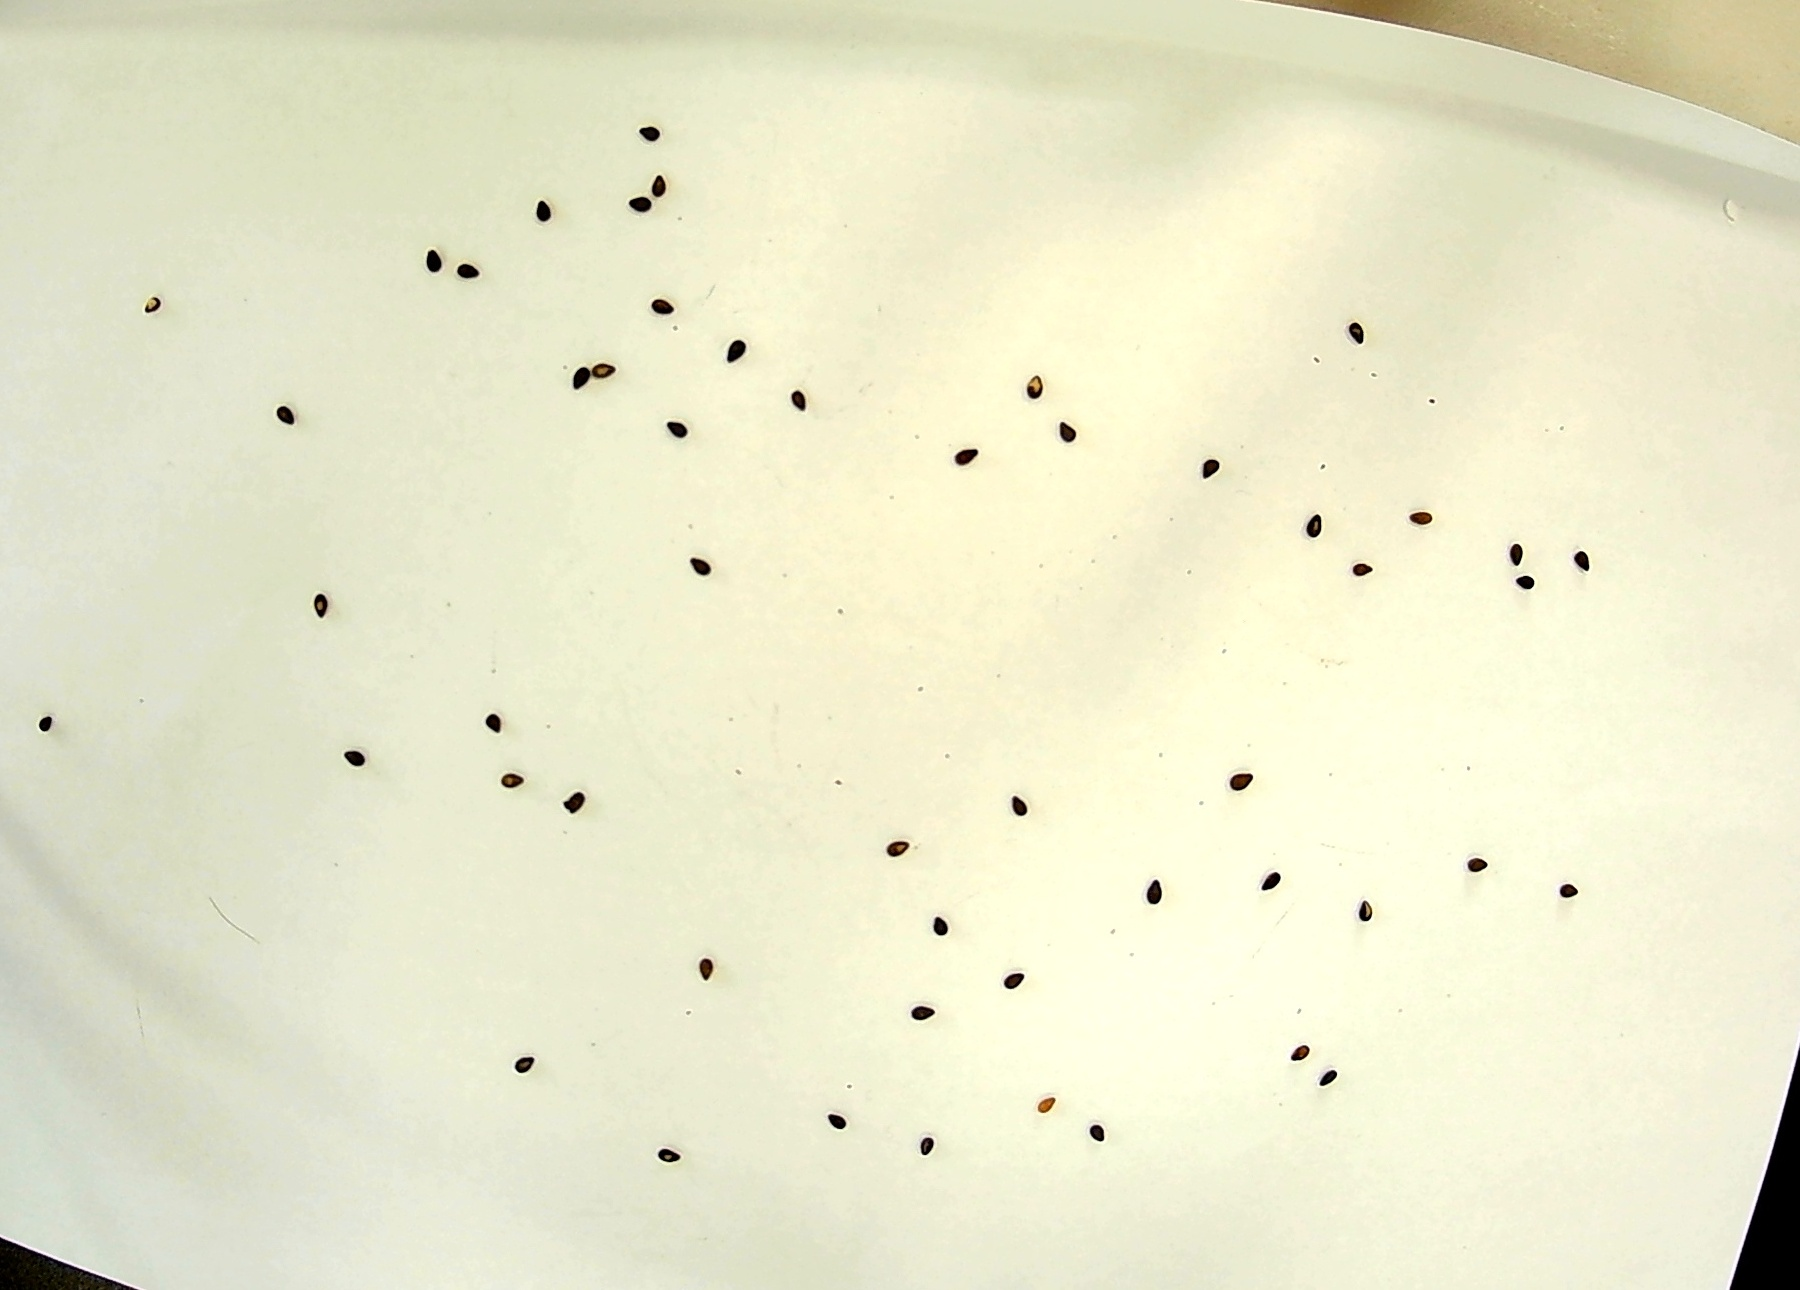sesami: (643, 163, 671, 212), (414, 244, 447, 274), (633, 117, 666, 147), (532, 197, 564, 226), (140, 292, 172, 321), (20, 708, 52, 737), (267, 392, 299, 422), (303, 591, 335, 620), (338, 747, 370, 776), (487, 712, 519, 741), (495, 762, 527, 792), (685, 951, 717, 980), (511, 1051, 543, 1081), (654, 1145, 687, 1174), (819, 1107, 851, 1136), (908, 1129, 940, 1159), (1035, 1088, 1067, 1117), (1080, 1118, 1112, 1148), (1293, 1037, 1326, 1067), (1314, 1064, 1347, 1093), (1349, 899, 1381, 928), (1461, 853, 1493, 882), (1560, 880, 1592, 909), (1504, 542, 1536, 571), (1404, 501, 1436, 531), (1341, 314, 1373, 343), (1196, 445, 1228, 475), (1347, 547, 1379, 577), (1224, 769, 1256, 799), (1253, 866, 1285, 895), (1137, 878, 1169, 907), (993, 972, 1026, 1001), (900, 997, 932, 1026), (924, 906, 956, 935), (880, 838, 913, 867), (1060, 420, 1093, 450), (1019, 370, 1051, 399), (949, 445, 981, 475), (777, 387, 809, 416), (719, 336, 751, 366), (628, 191, 660, 221), (589, 352, 621, 381), (560, 364, 592, 394), (661, 419, 693, 448), (685, 556, 717, 585), (682, 554, 714, 584), (1305, 514, 1335, 543), (1005, 787, 1035, 817), (452, 255, 484, 283), (558, 787, 590, 815), (1568, 542, 1600, 570), (1514, 570, 1546, 598), (646, 281, 678, 309)
